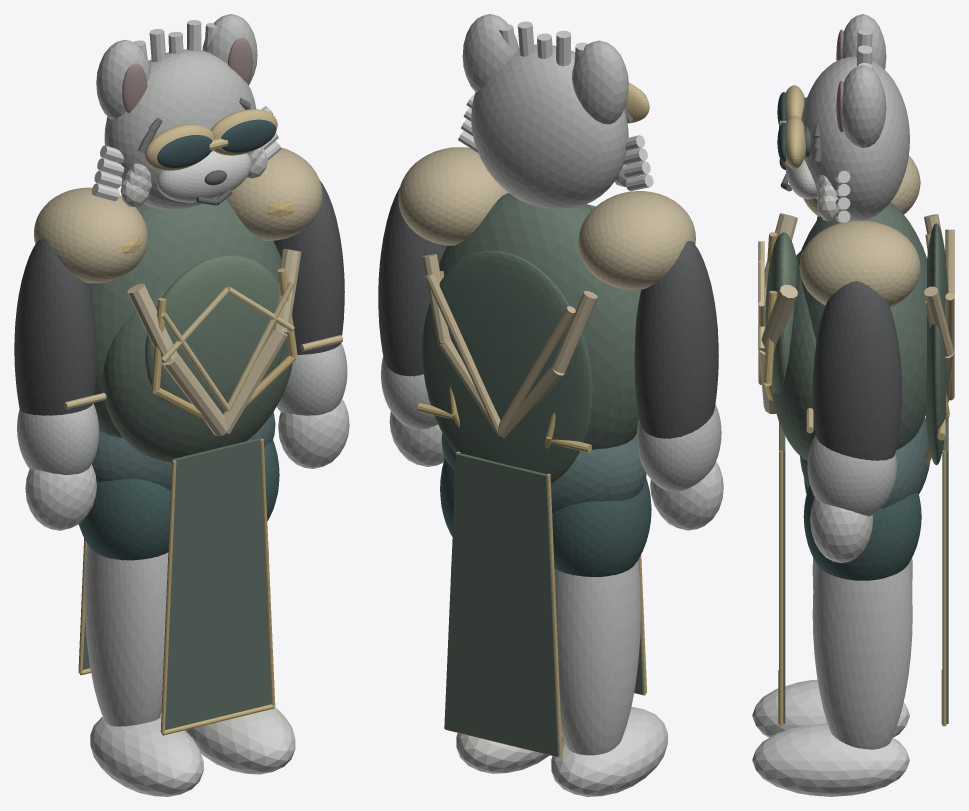
The model's file is high_prototype (5).glb.
3 renders of one model, left to right at view 1: azimuth 30°, elevation 25°; view 2: azimuth 150°, elevation 25°; view 3: azimuth 270°, elevation 25°, orthographic. The views are drawn at different scales.
Visible parts, largest first — view 1: front_hanging_fabric_062, leg_-1_004, arm_-1_006, chest_armor_055, torso_001, belly_clothing_003, head_016, gold_shoulder_-1_075, paw_-1_005, arm_1_012, short_leg_-1_060, gold_shoulder_1_080 (+25 smaller); view 2: back_hanging_fabric_066, back_coat_051, head_016, torso_001, leg_-1_004, arm_-1_006, gold_shoulder_-1_075, gold_shoulder_1_080, arm_1_012, short_leg_-1_060, paw_-1_005, hips_002 (+14 smaller); view 3: leg_1_010, arm_1_012, head_016, paw_1_011, gold_shoulder_1_080, torso_001, short_leg_1_061, white_forearm_1_081, belly_clothing_003, back_coat_051, ear_1_014, paw_-1_005 (+20 smaller).
Part boxes in pixels (x1,y1,x2,y2): front_hanging_fabric_062: (160,438,271,731); leg_-1_004: (84,544,168,726); arm_-1_006: (14,238,96,415); chest_armor_055: (145,255,286,403); torso_001: (89,197,281,437); belly_clothing_003: (102,289,292,462); head_016: (104,49,256,209); gold_shoulder_-1_075: (34,187,147,283); paw_-1_005: (90,716,203,796); arm_1_012: (274,181,344,354); short_leg_-1_060: (79,479,170,560); gold_shoulder_1_080: (226,147,322,240); back_hanging_fabric_066: (444,452,558,756); back_coat_051: (422,250,592,483); head_016: (471,44,628,209); torso_001: (439,193,640,449); leg_-1_004: (554,560,640,755); arm_-1_006: (634,241,718,438); gold_shoulder_-1_075: (578,191,695,289); gold_shoulder_1_080: (398,147,508,245); arm_1_012: (378,187,446,376); short_leg_-1_060: (552,477,651,576); paw_-1_005: (551,707,667,796); hips_002: (441,433,646,512); leg_1_010: (812,563,912,749); arm_1_012: (812,281,902,460); head_016: (801,56,909,221); paw_1_011: (752,723,909,796); gold_shoulder_1_080: (799,220,920,307); torso_001: (799,202,926,449); short_leg_1_061: (803,485,921,580); white_forearm_1_081: (807,434,896,516); belly_clothing_003: (773,251,816,460); back_coat_051: (925,223,948,465); ear_1_014: (842,65,886,147); paw_-1_005: (752,679,909,737).
Size of the model in its own units: 0.69 by 1.53 by 0.385.
